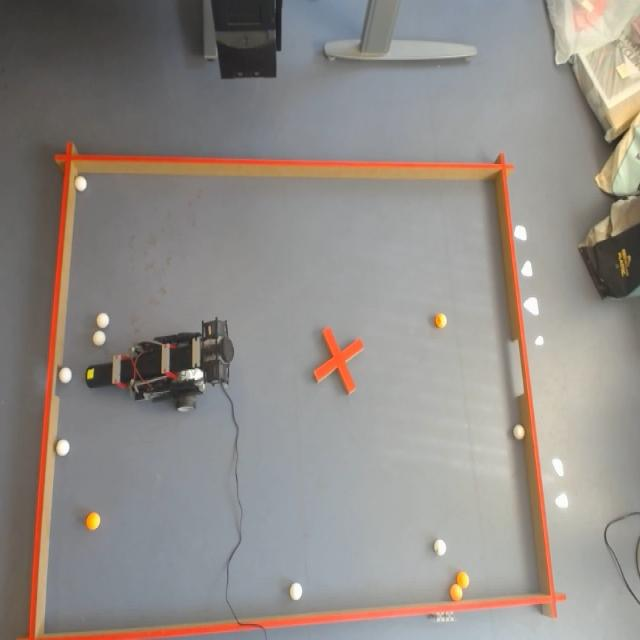orange: (83, 511, 104, 533), (432, 311, 448, 330), (449, 583, 464, 601), (456, 570, 470, 589)
robot: (85, 317, 234, 413)
robot-front: (85, 366, 96, 383)
white: (54, 437, 72, 459), (57, 365, 74, 386), (73, 173, 89, 195), (288, 581, 304, 602), (432, 538, 448, 558), (95, 312, 110, 332), (92, 326, 107, 346), (512, 424, 526, 441)
